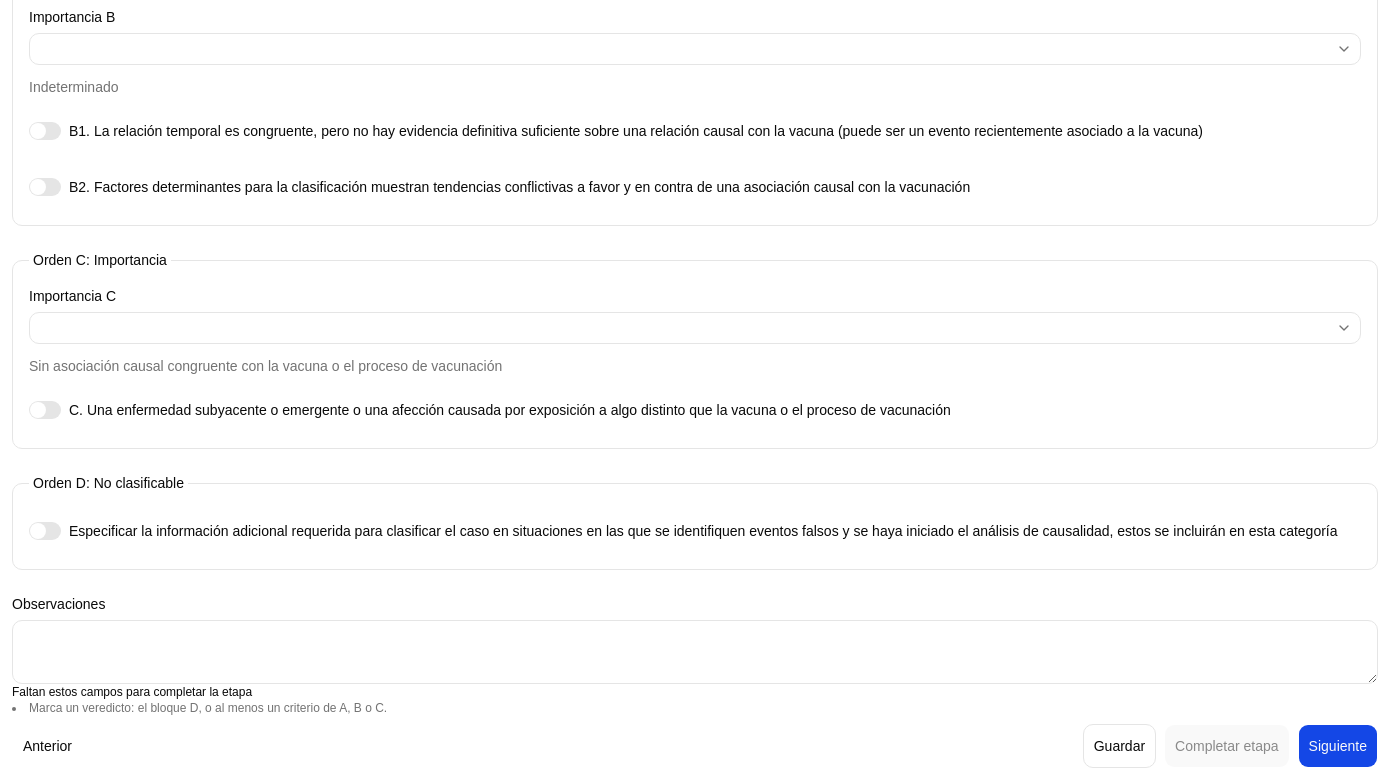
Test: FinalClassificationStep — guardar (SPEC FE14a §4 paso 8) › con D encendido, «Completar etapa» ya no lista el pendiente
The width and height of the screenshot is (1390, 768).
(page scrolled)
Expected: the list item "Marca un veredicto: el bloque D, o al menos un criterio de A, B o C." is shown, [29,701,387,715]
What coordinates should you click on to do the following:
click the switch named "Especificar la información adicional requerida para clasificar el caso en situaciones en las que se identifiquen eventos"
I would click on:
 (45, 531)
Its box is [29,522,61,540].
(page scrolled)
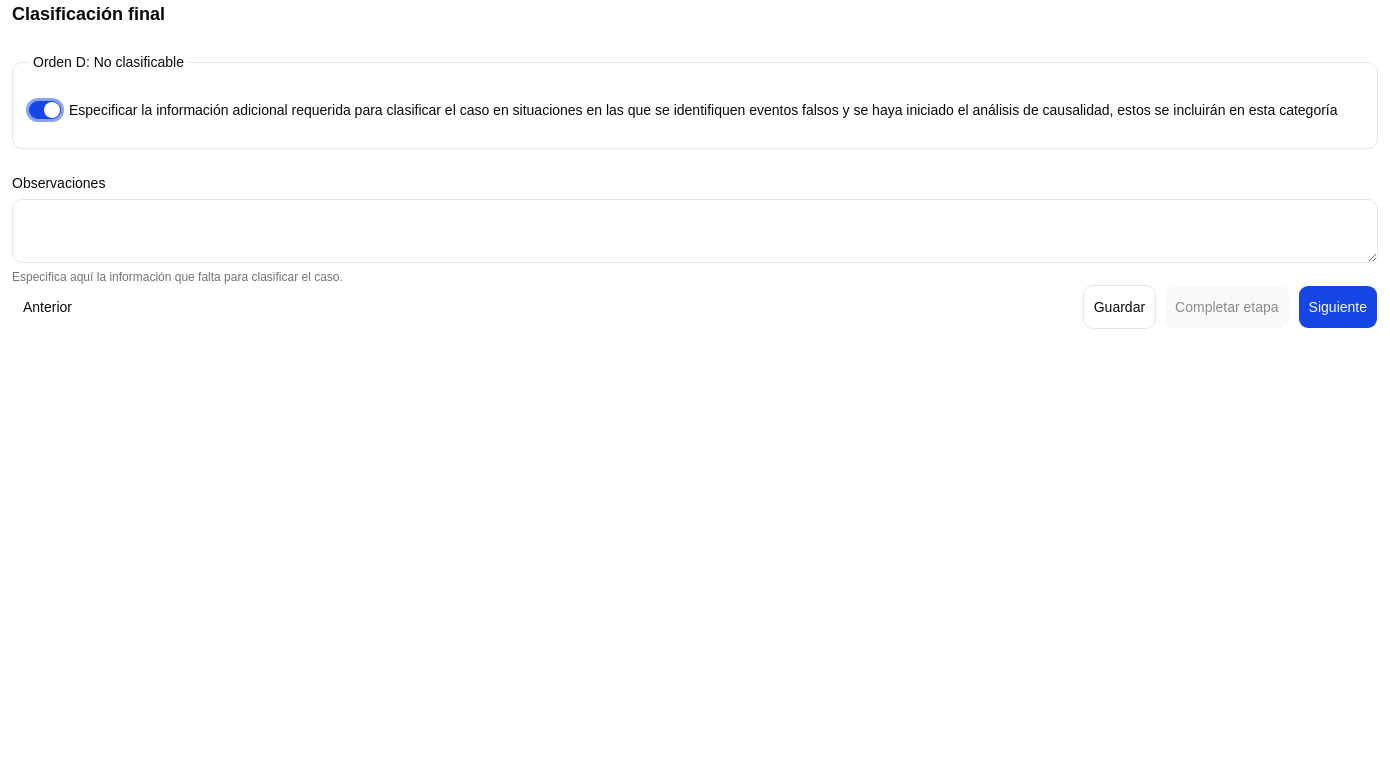
Result: the list item "Marca un veredicto: el bloque D, o al menos un criterio de A, B o C." is gone
